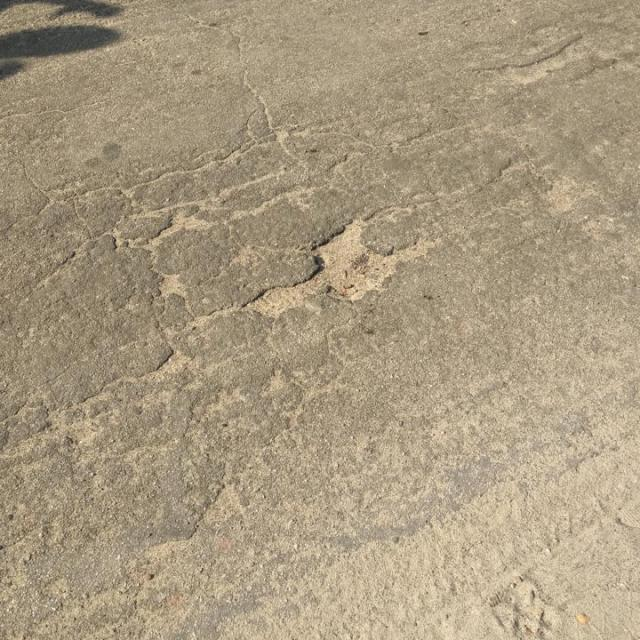pothole: (246, 213, 438, 321)
